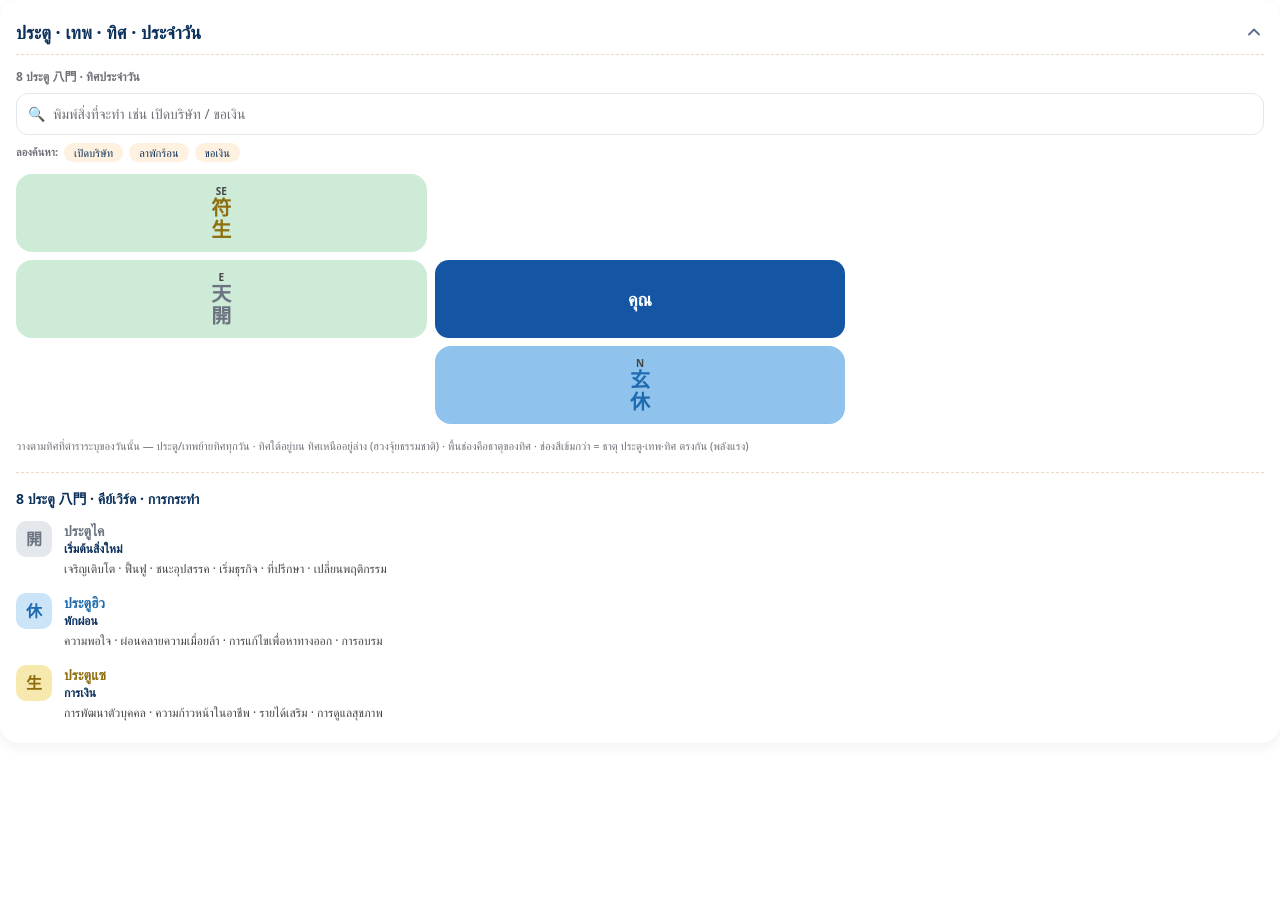
Test: B · ช่องค้นหาบนตารางประตู › คำมั่วที่ไม่ตรง key → โชว์ "ไม่พบ" + ชิปวลีที่คนมักถาม, คลิกชิปแล้วค้นด้วยคำนั้น
This screenshot has width=1280, height=900.
Type "zxcvbnmqwerty" into the search field named "ค้นหาว่าควรไปทิศไหน" at (640, 114), box [16,93,1264,135]
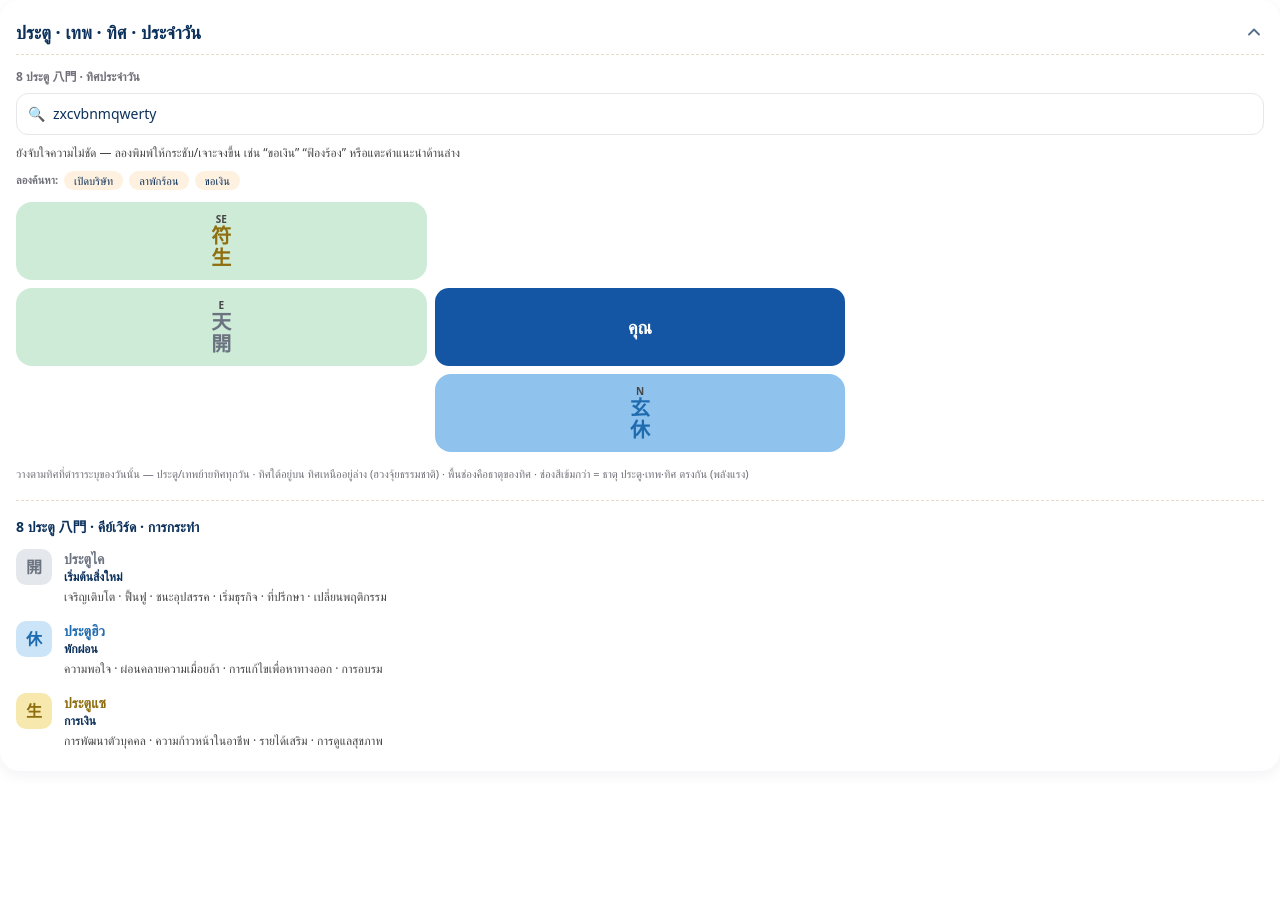
expect the text with test id "gate-search-empty" is shown: met, box [16,144,460,161]
Click the button "เปิดบริษัท" at (94, 180), box [64,171,123,190]
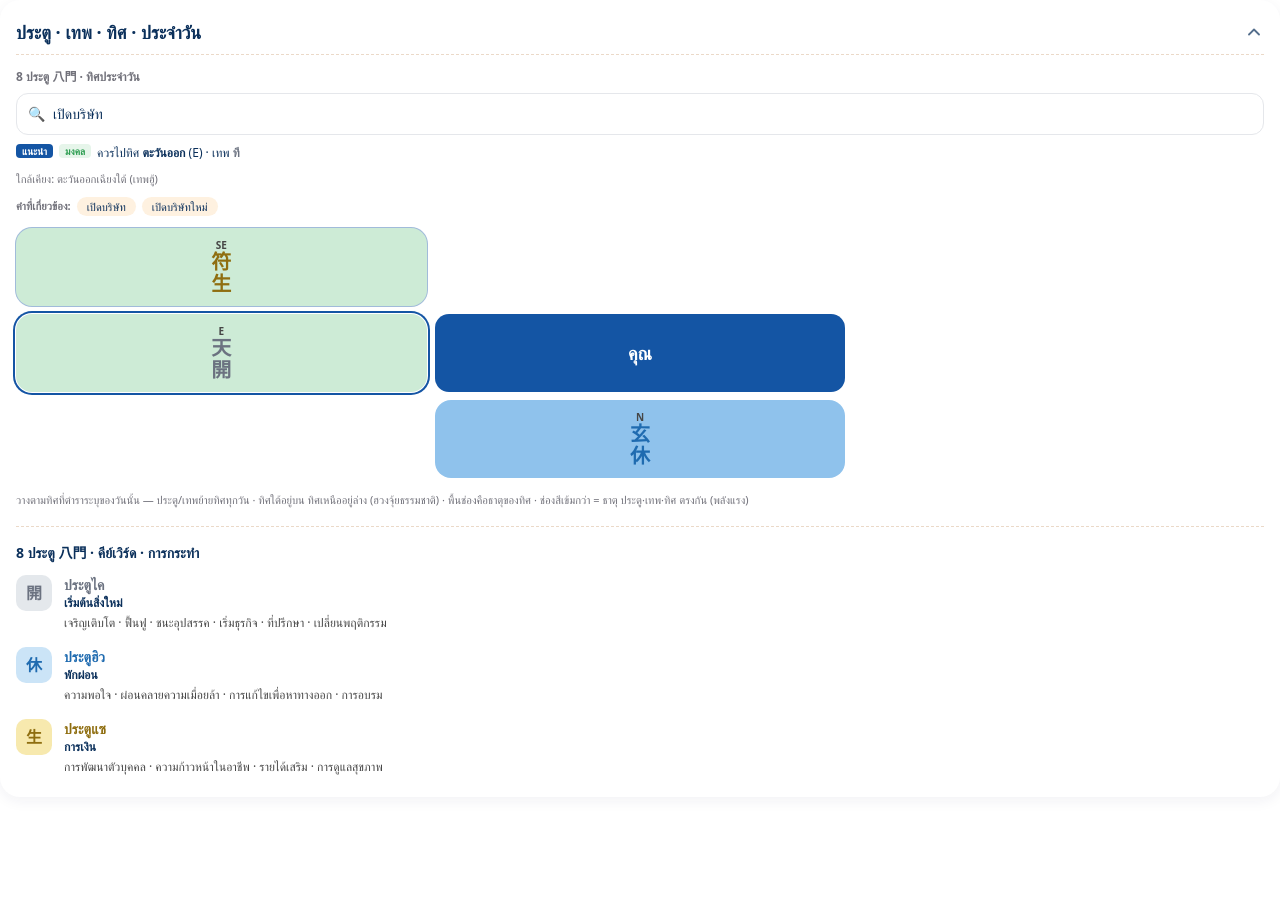
expect the search field named "ค้นหาว่าควรไปทิศไหน" holds "เปิดบริษัท": met, box [16,93,1264,135]
expect the element with test id "gate-search-hit" is shown: met, box [16,144,240,186]
